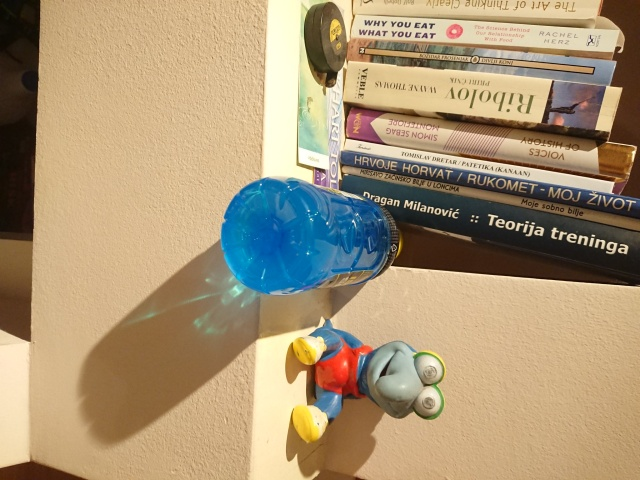Vindi Iso Sport Forest Strawberries 500mL: (218, 174, 416, 298)
